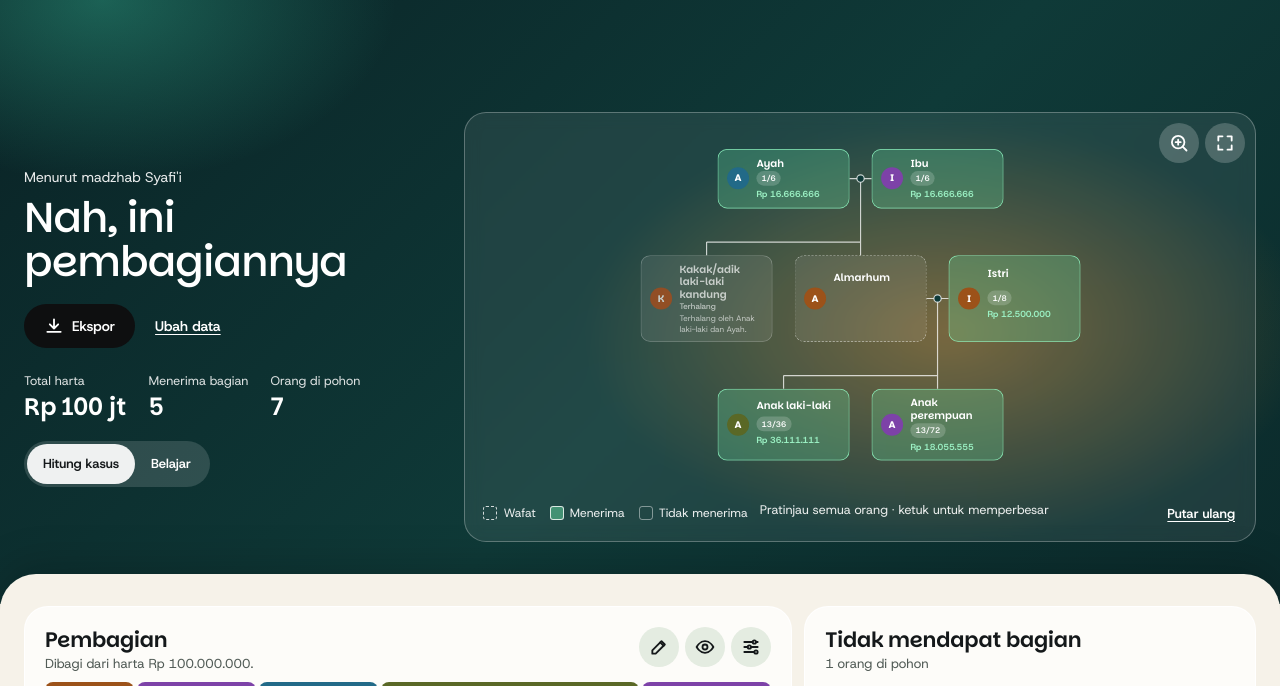
Test case: layar hasil › klik orang di pohon membuka penjelasan dengan ahwal, baris kasus ini disorot
Click the button named "Layar penuh" at (1225,143), box x1=1205 y1=123 x2=1245 y2=163
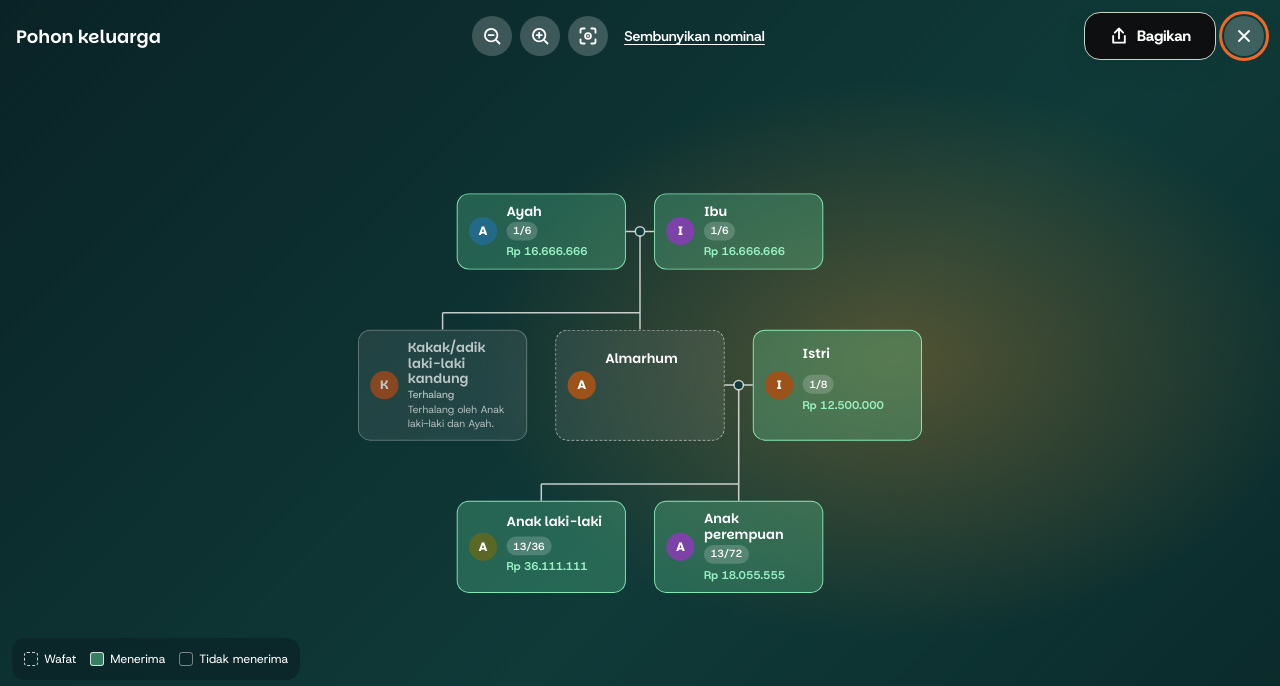
Click the button "I Ibu 1/6 Rp 16.666.666" at (739,231), box x1=654 y1=193 x2=823 y2=269
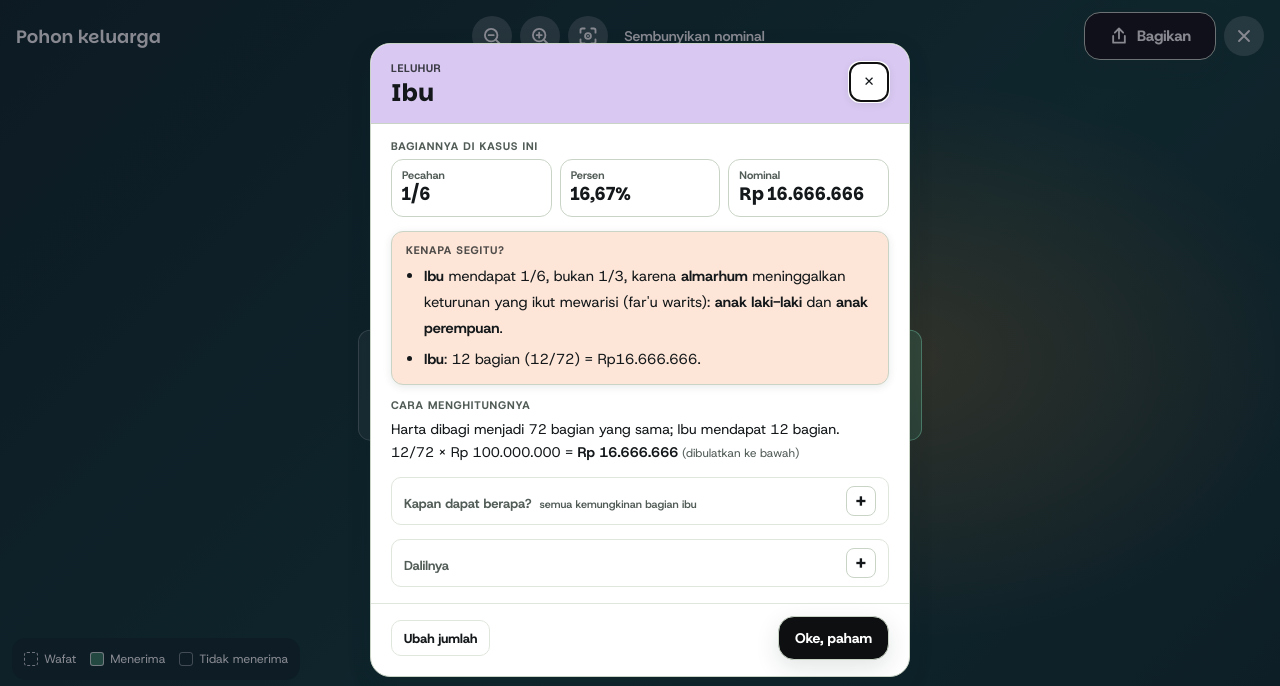
Click the button "Kapan dapat berapa? semua kemungkinan bagian ibu" at (640,501), box x1=392 y1=478 x2=888 y2=524
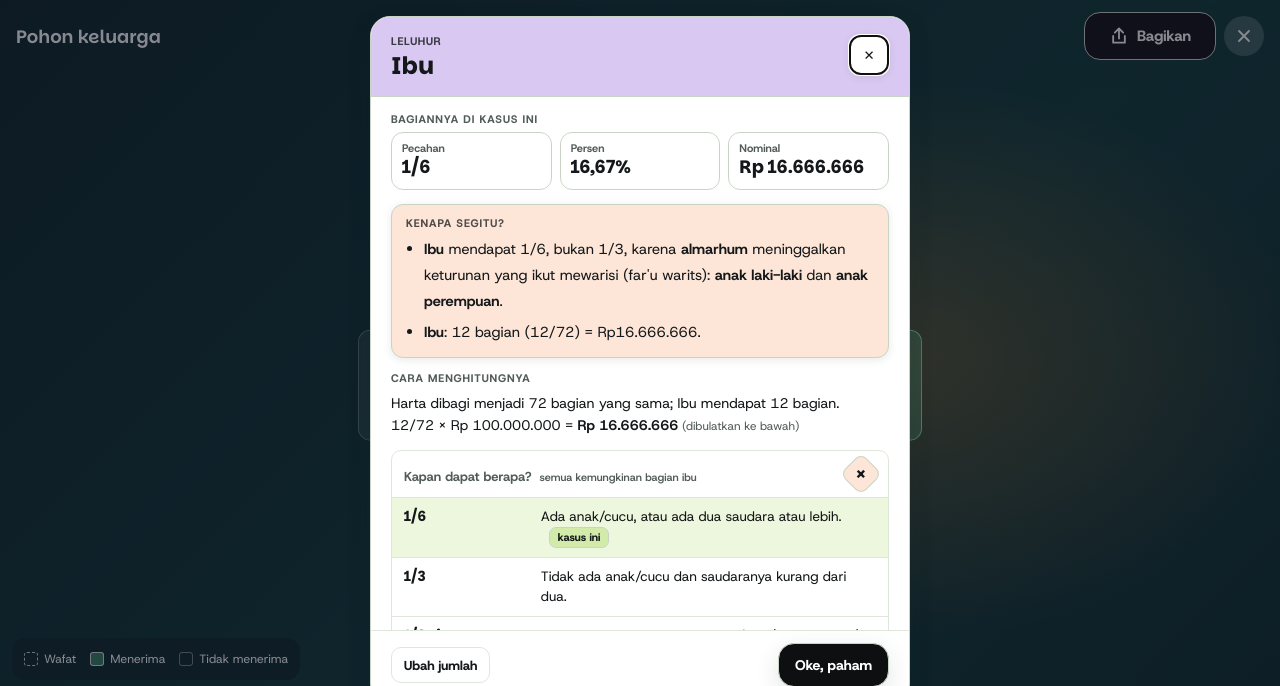
Expected: the text "Ada anak/cucu, atau ada dua saudara atau lebih." shows "kasus ini", x1=558 y1=530 x2=600 y2=544
